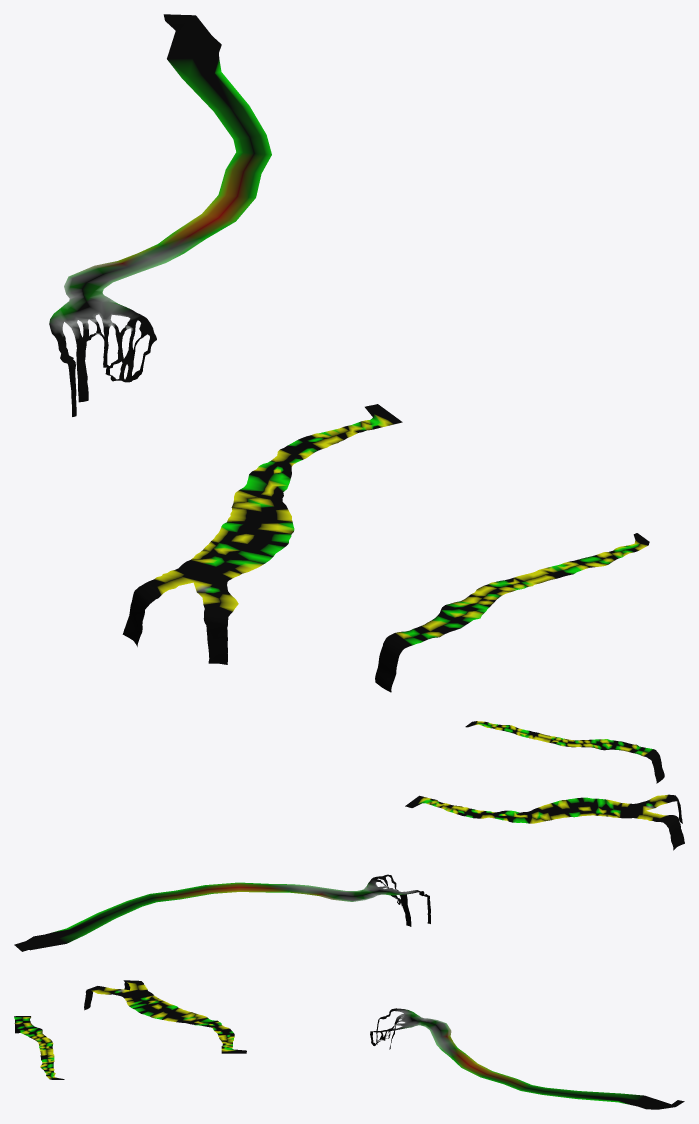
3 views of the same model, one above another, from view 1: azimuth 30°, elevation 25°; view 2: azimuth 150°, elevation 25°; view 3: azimuth 270°, elevation 25° (orthographic). The views are drawn at different scales.
Visible parts, largest first — view 1: G:\FFXIV-MapTools\exports\s1f1\bg\ffxiv\sea_s1\fld\s1f1\bgpa (×2); view 2: G:\FFXIV-MapTools\exports\s1f1\bg\ffxiv\sea_s1\fld\s1f1\bgpa (×2); view 3: G:\FFXIV-MapTools\exports\s1f1\bg\ffxiv\sea_s1\fld\s1f1\bgpa (×2).
Part boxes in pixels (box(x1,y1,x2,y2)): G:\FFXIV-MapTools\exports\s1f1\bg\ffxiv\sea_s1\fld\s1f1\bgpa (×2): box(49, 14, 649, 692); G:\FFXIV-MapTools\exports\s1f1\bg\ffxiv\sea_s1\fld\s1f1\bgpa (×2): box(14, 721, 684, 951); G:\FFXIV-MapTools\exports\s1f1\bg\ffxiv\sea_s1\fld\s1f1\bgpa (×2): box(14, 980, 684, 1109).
Size of the model in its own units: 557 by 69.81 by 1062.
